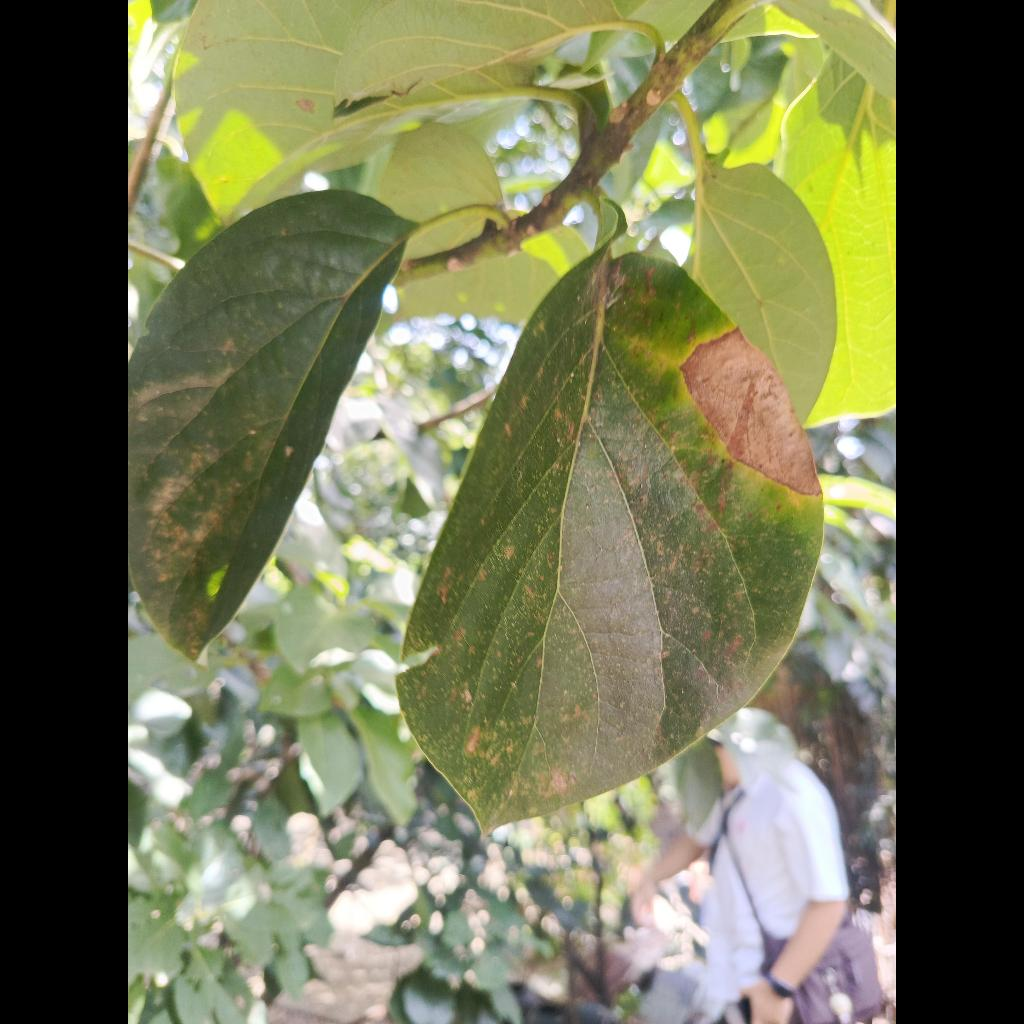antracnosis_hoja: (397, 244, 824, 829)
